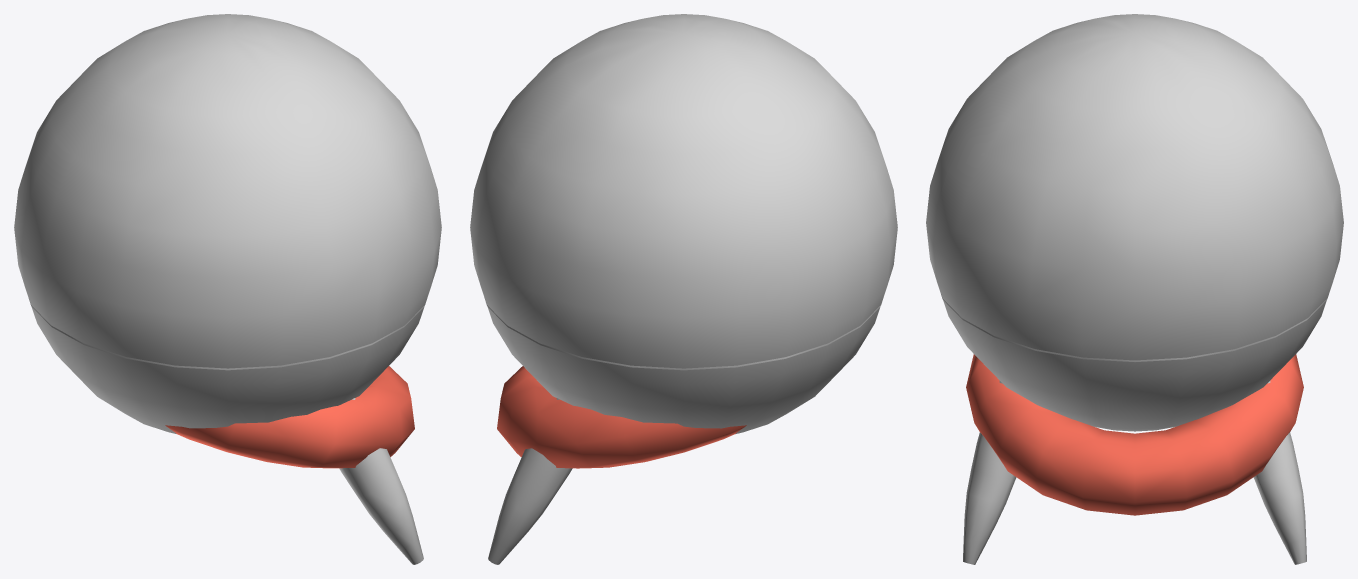
The model's file is SM_Crew_HairBun.fbx.
The picture shows the model from 3 angles, left to right: view 1: azimuth 30°, elevation 25°; view 2: azimuth 150°, elevation 25°; view 3: azimuth 270°, elevation 25°; orthographic projection. The views are drawn at different scales.
Visible parts, largest first — view 1: SM_Crew_HairBun; view 2: SM_Crew_HairBun; view 3: SM_Crew_HairBun.
Part boxes in pixels (x1,y1,x2,y2): SM_Crew_HairBun: (14, 14, 441, 564); SM_Crew_HairBun: (470, 14, 897, 564); SM_Crew_HairBun: (926, 14, 1343, 564).
Size of the model in its own units: 92.84 by 118 by 92.84.
